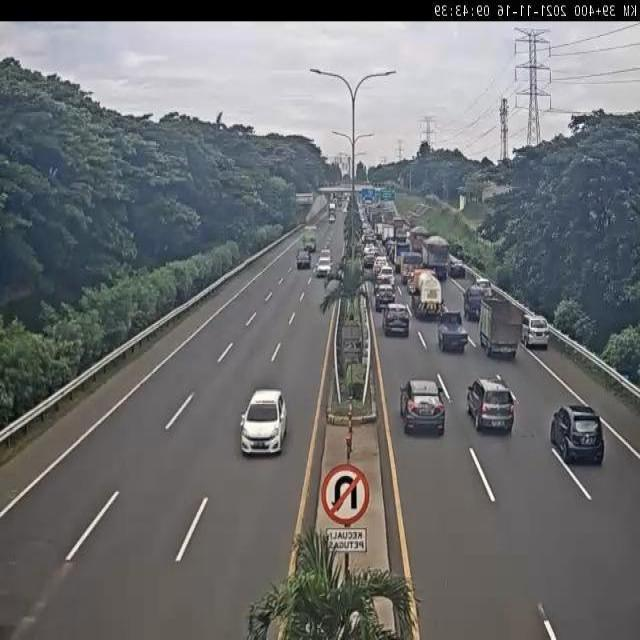Car: (232, 380, 298, 460), (550, 404, 604, 464), (466, 376, 516, 434), (400, 378, 447, 436), (436, 310, 469, 352), (521, 313, 549, 350), (382, 302, 410, 338), (316, 256, 332, 278)
Truck: (479, 296, 523, 358), (411, 270, 446, 319), (423, 238, 452, 287)
